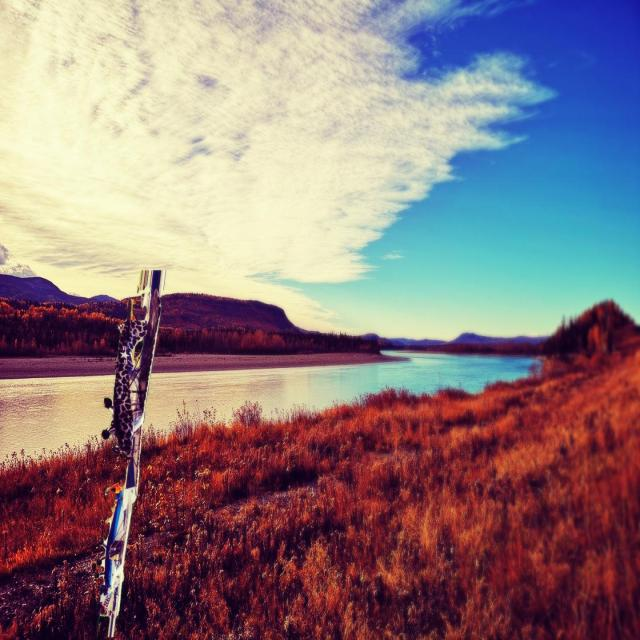airplane: (95, 268, 167, 638)
